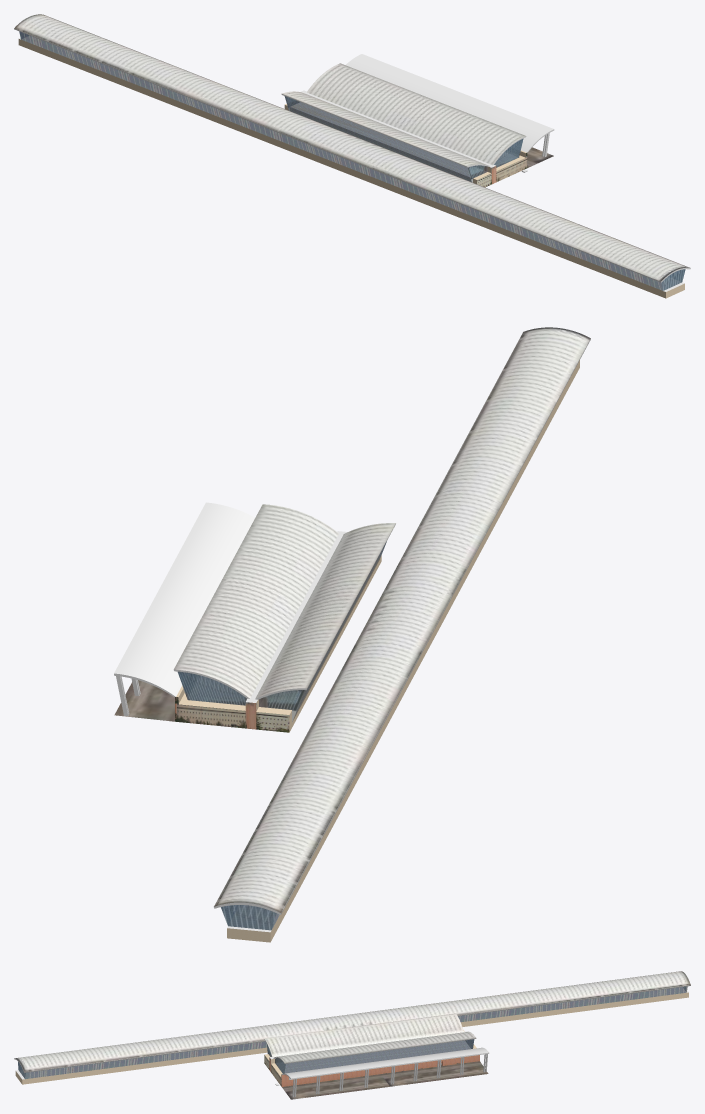
File: PVG.fbx
3 views of the same model, one above another, from view 1: azimuth 30°, elevation 25°; view 2: azimuth 150°, elevation 25°; view 3: azimuth 270°, elevation 25° (orthographic). The views are drawn at different scales.
Visible parts, largest first — view 1: Model; view 2: Model; view 3: Model.
Boxes of the visible parts, x1,y1,x2,y2 form: Model: (14,14,690,298); Model: (114,327,590,942); Model: (14,971,690,1099).
Size of the model in its own units: 532 by 52.99 by 1341.
